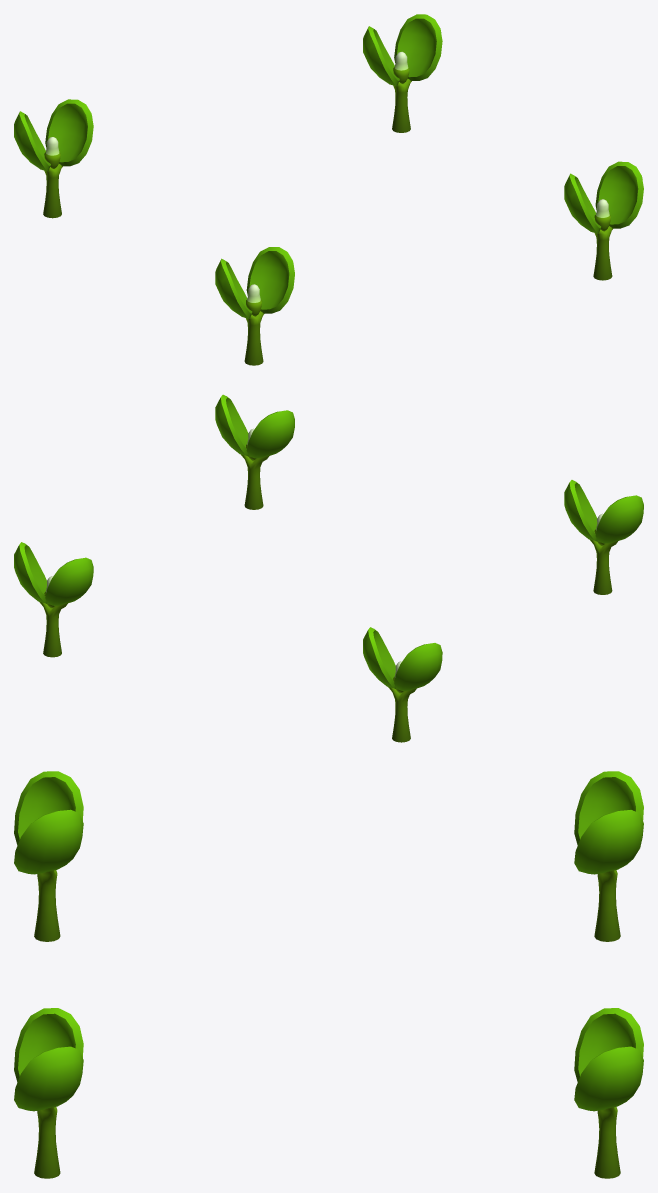
Rendered from Farm_Crop_Soybean_Step_01.fbx.
The picture shows the model from 3 angles, top to bottom: view 1: azimuth 30°, elevation 25°; view 2: azimuth 150°, elevation 25°; view 3: azimuth 270°, elevation 25°; orthographic projection. The views are drawn at different scales.
Parts seen in each view (by area): view 1: Farm_Crop_Soybean_Step_01; view 2: Farm_Crop_Soybean_Step_01; view 3: Farm_Crop_Soybean_Step_01.
Boxes of the visible parts, <box> form: Farm_Crop_Soybean_Step_01: <box>14,14,643,365</box>; Farm_Crop_Soybean_Step_01: <box>14,394,643,742</box>; Farm_Crop_Soybean_Step_01: <box>14,771,643,1178</box>.
Size of the model in its own units: 121 by 28.63 by 112.
